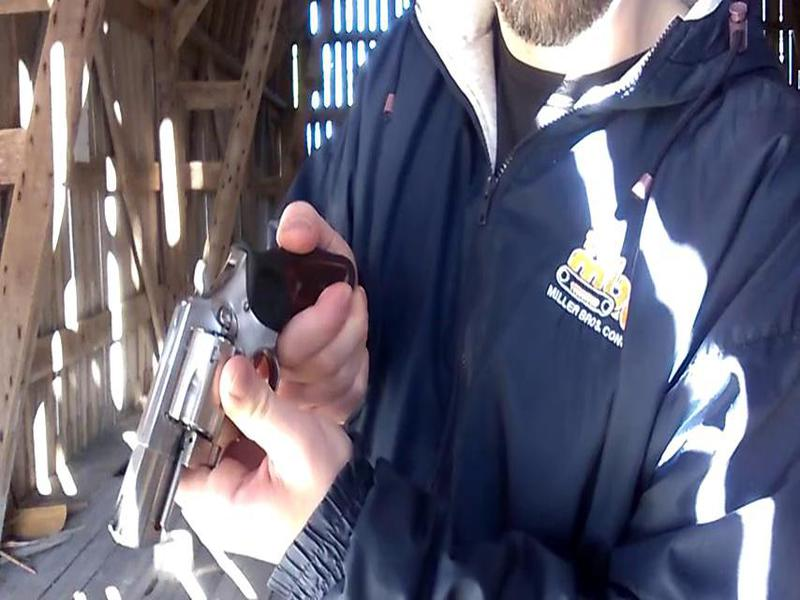Revolver: (103, 249, 268, 563)
